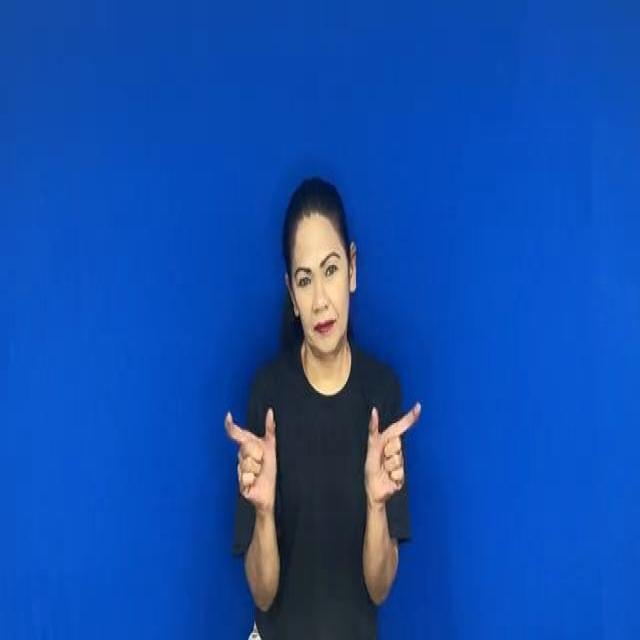crab: (216, 399, 286, 521), (360, 395, 436, 500)
